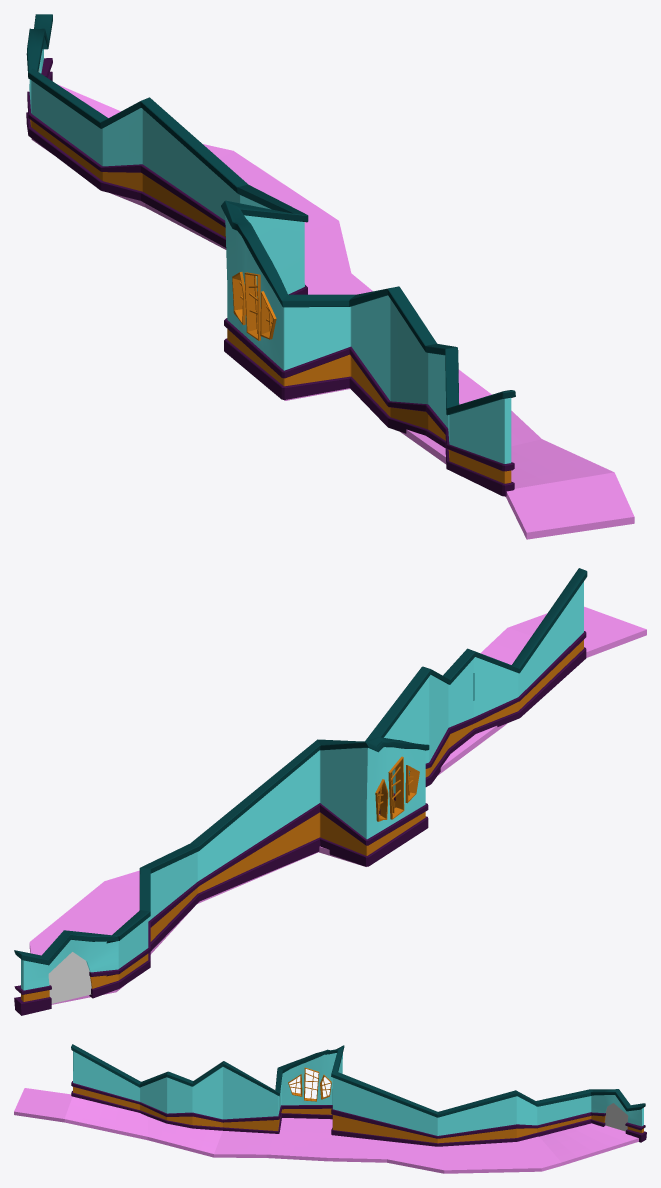
Rendered from Corridor_Resting.FBX.
3 views of the same model, one above another, from view 1: azimuth 30°, elevation 25°; view 2: azimuth 150°, elevation 25°; view 3: azimuth 270°, elevation 25° (orthographic). The views are drawn at different scales.
Visible parts, largest first — view 1: Pared, Suelo, ParedPuerta; view 2: Pared, Suelo, ParedPuerta, Puerta; view 3: Pared, Suelo, ParedPuerta, Puerta.
Part boxes in pixels (<box>): Pared: <box>28,68,515,496</box>; Suelo: <box>31,84,634,539</box>; ParedPuerta: <box>26,14,52,134</box>; Pared: <box>106,568,587,987</box>; Suelo: <box>29,606,646,1004</box>; ParedPuerta: <box>14,930,119,1015</box>; Puerta: <box>48,952,91,1003</box>; Pared: <box>71,1044,593,1146</box>; Suelo: <box>14,1088,638,1173</box>; ParedPuerta: <box>590,1089,646,1142</box>; Puerta: <box>605,1103,628,1131</box>.
Size of the model in its own units: 1325 by 6264 by 864.
